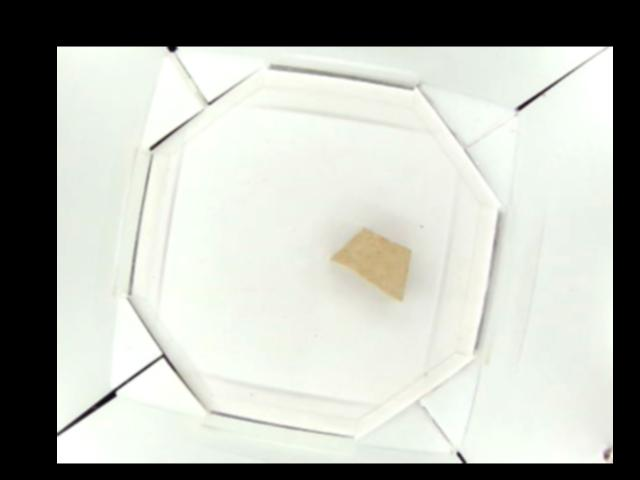China: (327, 228, 410, 297)
